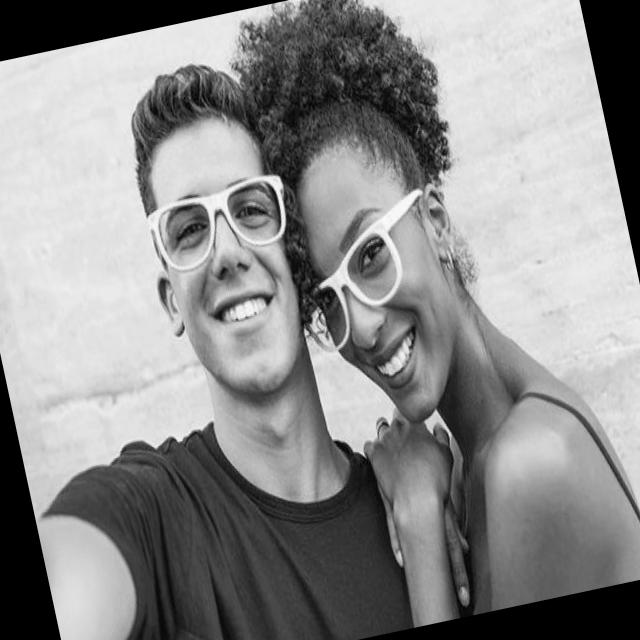glasses: (280, 188, 452, 357), (144, 174, 296, 276)
